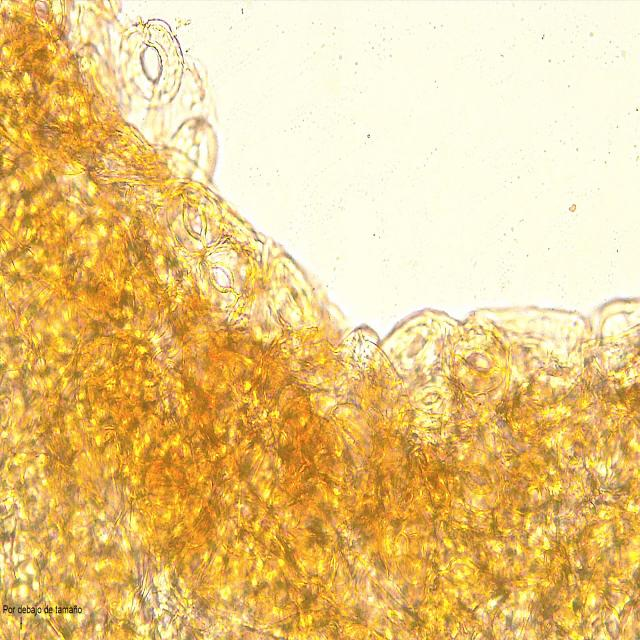Stomata: (116, 16, 186, 110), (447, 323, 510, 398), (165, 182, 227, 252), (385, 314, 443, 379), (195, 245, 250, 313), (453, 446, 507, 512), (325, 402, 376, 466), (589, 586, 640, 640), (16, 0, 68, 49)
